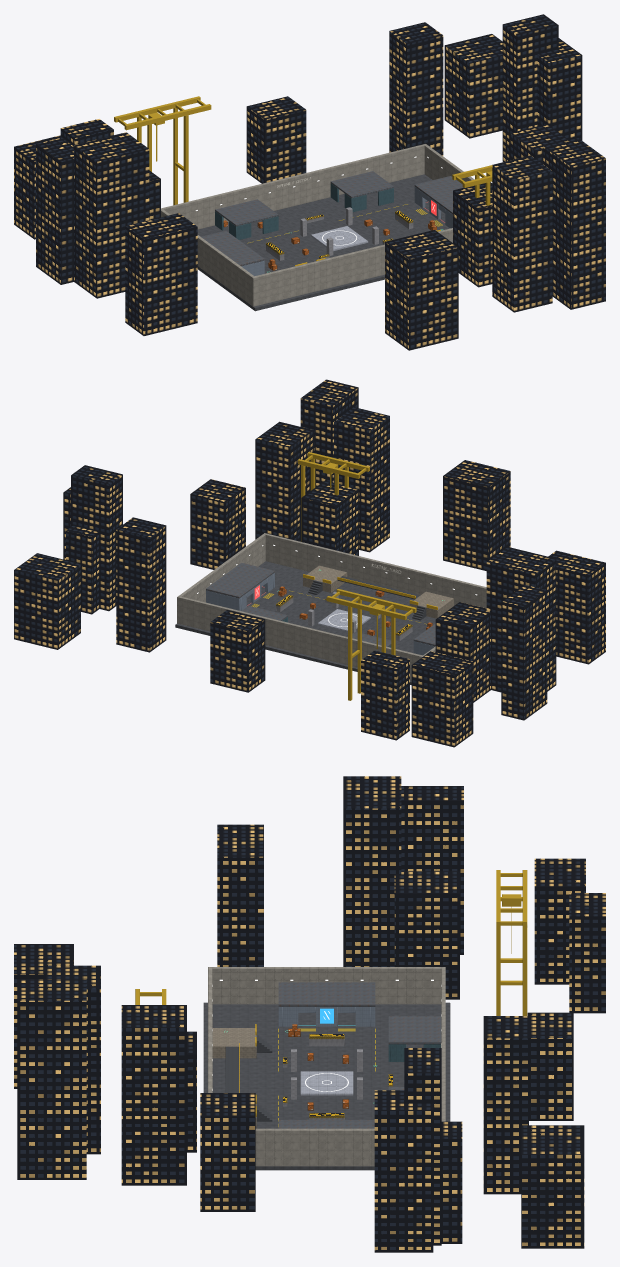
The model's file is map_kestrel.glb.
3 renders of one model, top to bottom at view 1: azimuth 30°, elevation 25°; view 2: azimuth 150°, elevation 25°; view 3: azimuth 270°, elevation 25°, orthographic. The views are drawn at different scales.
Parts seen in each view (by area): view 1: decor_out_skyline_n, decor_out_skyline_w, decor_out_skyline_s, map_wall, decor_out_skyline_e, map_ground, map_roof, decor_out_crane_1, map_building, map_point, decor_out_crane_0, map_spawn (+2 smaller); view 2: decor_out_skyline_s, decor_out_skyline_n, decor_out_skyline_w, decor_out_skyline_e, map_wall, map_ground, decor_out_crane_1, map_roof, decor_out_crane_0, map_platform, map_spawn, map_point; view 3: decor_out_skyline_n, decor_out_skyline_s, decor_out_skyline_w, decor_out_skyline_e, map_ground, map_wall, map_roof, decor_out_crane_1, map_point, map_spawn, map_platform, map_cover (+1 smaller).
Part boxes in pixels (box(x1,y1,x2,y2)): decor_out_skyline_n: box(385, 124, 605, 350); decor_out_skyline_w: box(36, 132, 197, 335); decor_out_skyline_s: box(14, 22, 502, 239); map_wall: box(161, 144, 474, 306); decor_out_skyline_e: box(502, 14, 582, 161); map_ground: box(197, 174, 449, 311); map_roof: box(201, 171, 463, 266); decor_out_crane_1: box(114, 96, 211, 205); map_building: box(215, 183, 393, 239); map_point: box(311, 226, 368, 251); decor_out_crane_0: box(452, 165, 492, 205); map_spawn: box(241, 187, 452, 276); decor_out_skyline_s: box(14, 517, 473, 747); decor_out_skyline_n: box(255, 379, 510, 570); decor_out_skyline_w: box(435, 547, 605, 720); decor_out_skyline_e: box(63, 465, 245, 614); map_wall: box(177, 533, 486, 680); map_ground: box(175, 561, 436, 684); decor_out_crane_1: box(326, 589, 416, 700); map_roof: box(206, 562, 435, 646); decor_out_crane_0: box(298, 452, 369, 541); map_platform: box(303, 565, 453, 618); map_spawn: box(206, 573, 434, 655); map_point: box(318, 609, 370, 631); decor_out_skyline_n: box(14, 944, 196, 1185); decor_out_skyline_s: box(483, 858, 605, 1248); decor_out_skyline_w: box(217, 776, 463, 999); decor_out_skyline_e: box(200, 1048, 462, 1252); map_ground: box(203, 1002, 450, 1170); map_wall: box(208, 967, 445, 1166); map_roof: box(278, 982, 441, 1128); decor_out_crane_1: box(496, 870, 527, 1015); map_point: box(300, 1071, 353, 1095); map_spawn: box(278, 1007, 375, 1026); map_platform: box(212, 1028, 256, 1128); map_cover: box(283, 1034, 392, 1119).
Size of the model in its own units: 168 by 45.01 by 134.
24 materials, 14 textured.
